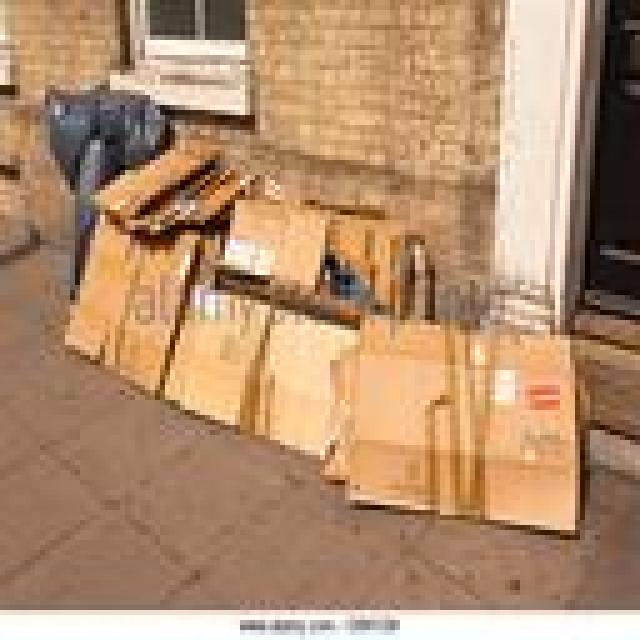Anorganik: (40, 75, 165, 180)
Organik: (325, 305, 580, 530), (155, 280, 355, 460), (215, 195, 425, 325), (55, 205, 195, 395), (85, 135, 250, 240)
